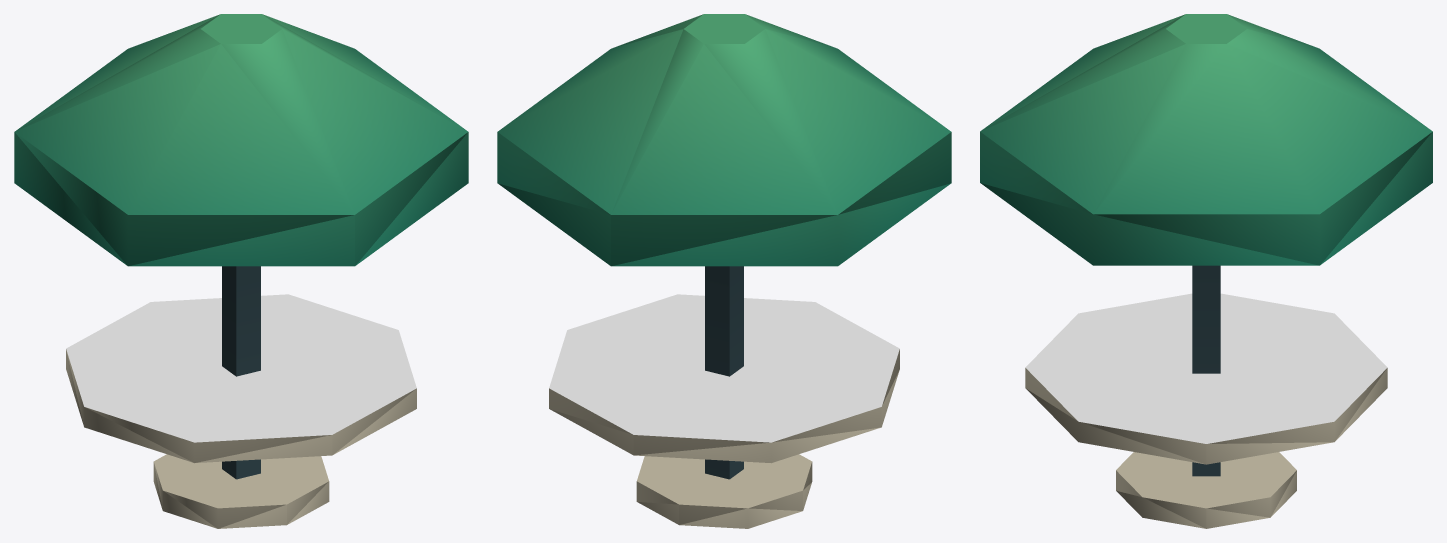
The model's file is detail-parasol-a.glb.
The picture shows the model from 3 angles, left to right: view 1: azimuth 30°, elevation 25°; view 2: azimuth 150°, elevation 25°; view 3: azimuth 270°, elevation 25°; orthographic projection.
Visible parts, largest first — view 1: detail-parasol-a; view 2: detail-parasol-a; view 3: detail-parasol-a.
Part boxes in pixels (x1,y1,x2,y2): detail-parasol-a: [14, 14, 468, 528]; detail-parasol-a: [497, 14, 951, 528]; detail-parasol-a: [980, 14, 1432, 528].
Bounding box in the file's own units: 3.46 × 4.5 × 4.
